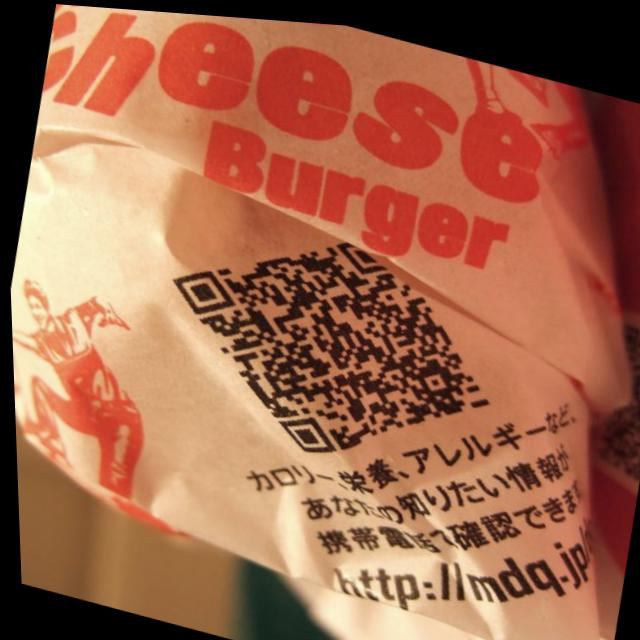qrcode: (142, 194, 515, 494)
